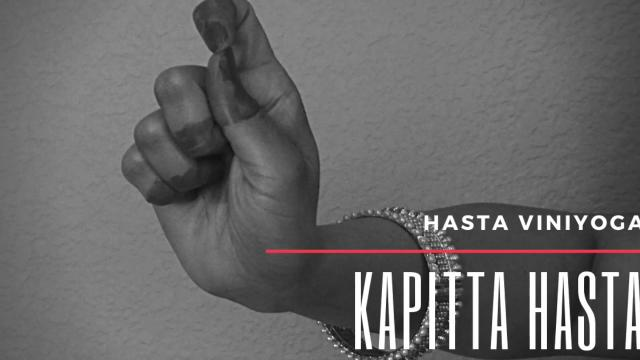kapitth: (86, 1, 357, 306)
